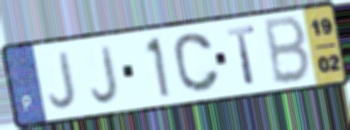1: (143, 34, 173, 100)
B: (263, 14, 313, 88)
C: (171, 31, 223, 95)
J: (46, 48, 78, 112), (89, 43, 120, 106)
T: (225, 23, 259, 86)
